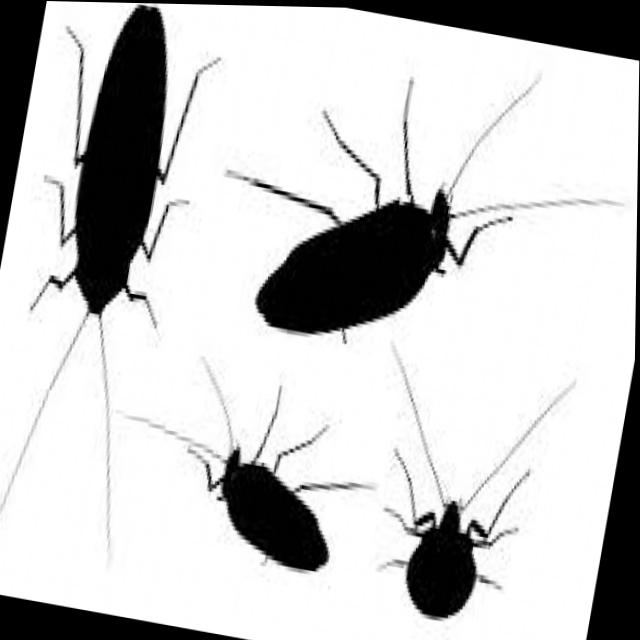Cockroach: (212, 65, 567, 444), (0, 0, 235, 503), (124, 364, 395, 627), (313, 413, 589, 640)
